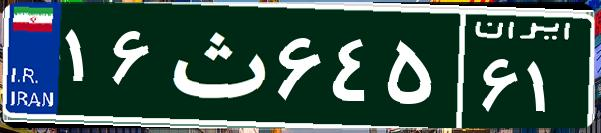1: (57, 26, 110, 107), (525, 38, 570, 115)
4: (330, 28, 385, 110)
5: (385, 28, 445, 110)
6: (273, 28, 330, 110), (475, 38, 525, 113), (110, 28, 158, 105)
ث: (158, 15, 273, 115)
